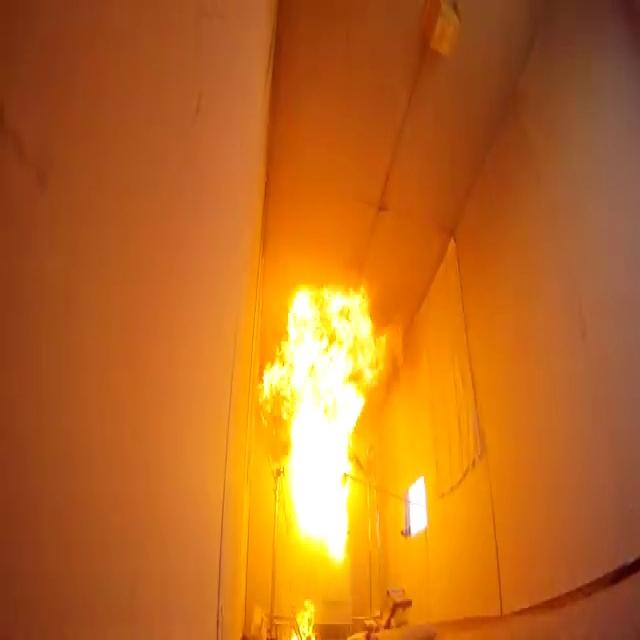fire: (256, 266, 392, 584)
